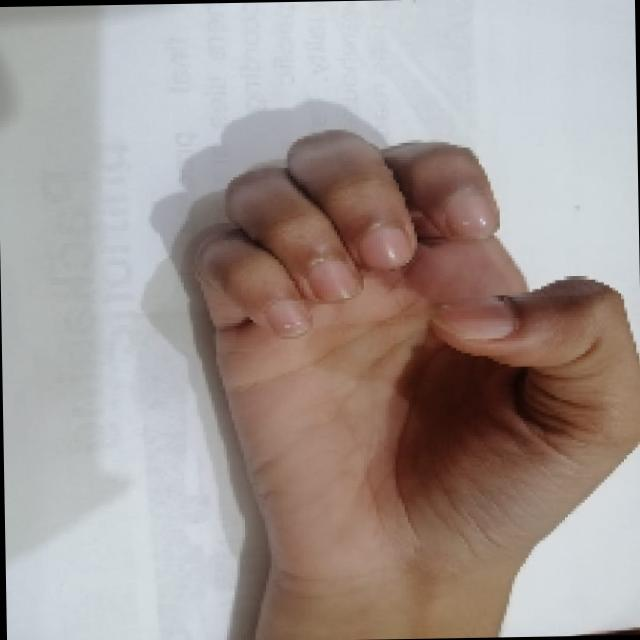Nail: (431, 296, 514, 339), (441, 184, 497, 237), (357, 222, 414, 268), (308, 257, 359, 301), (264, 298, 310, 337)
